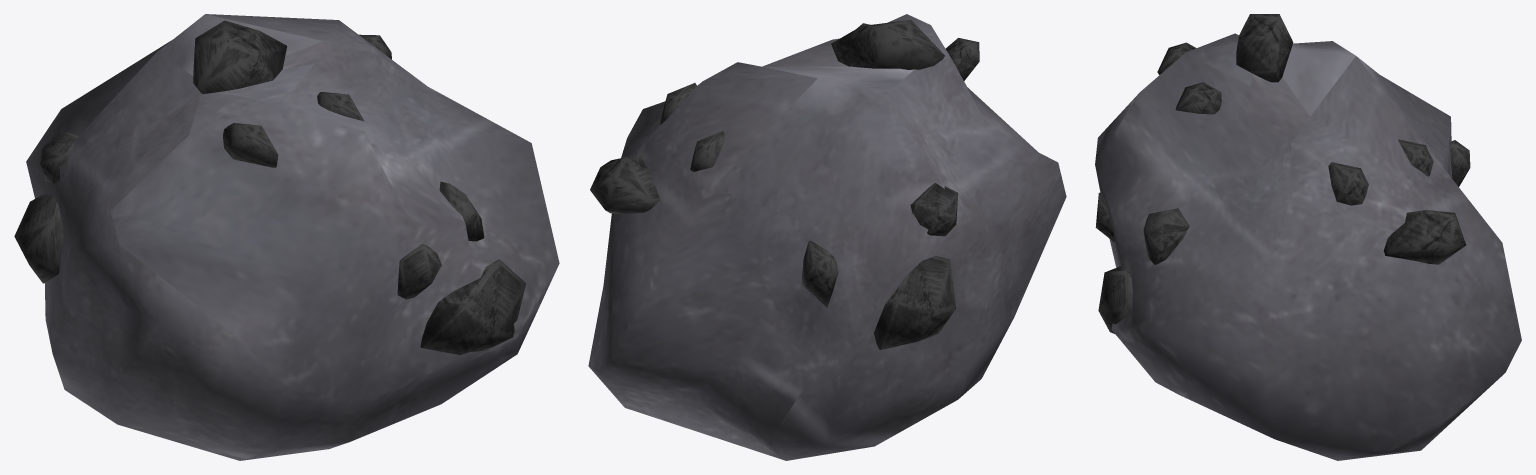
The model's file is lavastoneOreLP.fbx.
The picture shows the model from 3 angles, left to right: view 1: azimuth 30°, elevation 25°; view 2: azimuth 150°, elevation 25°; view 3: azimuth 270°, elevation 25°; orthographic projection. The views are drawn at different scales.
Parts seen in each view (by area): view 1: Ore.020, LavastoneParticle.053; view 2: Ore.020, LavastoneParticle.053; view 3: Ore.020, LavastoneParticle.053.
Part boxes in pixels (x1,y1,x2,y2): Ore.020: (26,14,559,460); LavastoneParticle.053: (14,20,525,354); Ore.020: (588,14,1066,460); LavastoneParticle.053: (590,20,979,349); Ore.020: (1095,33,1521,460); LavastoneParticle.053: (1095,14,1470,333).
Bounding box in the file's own units: 354 × 350 × 357.
